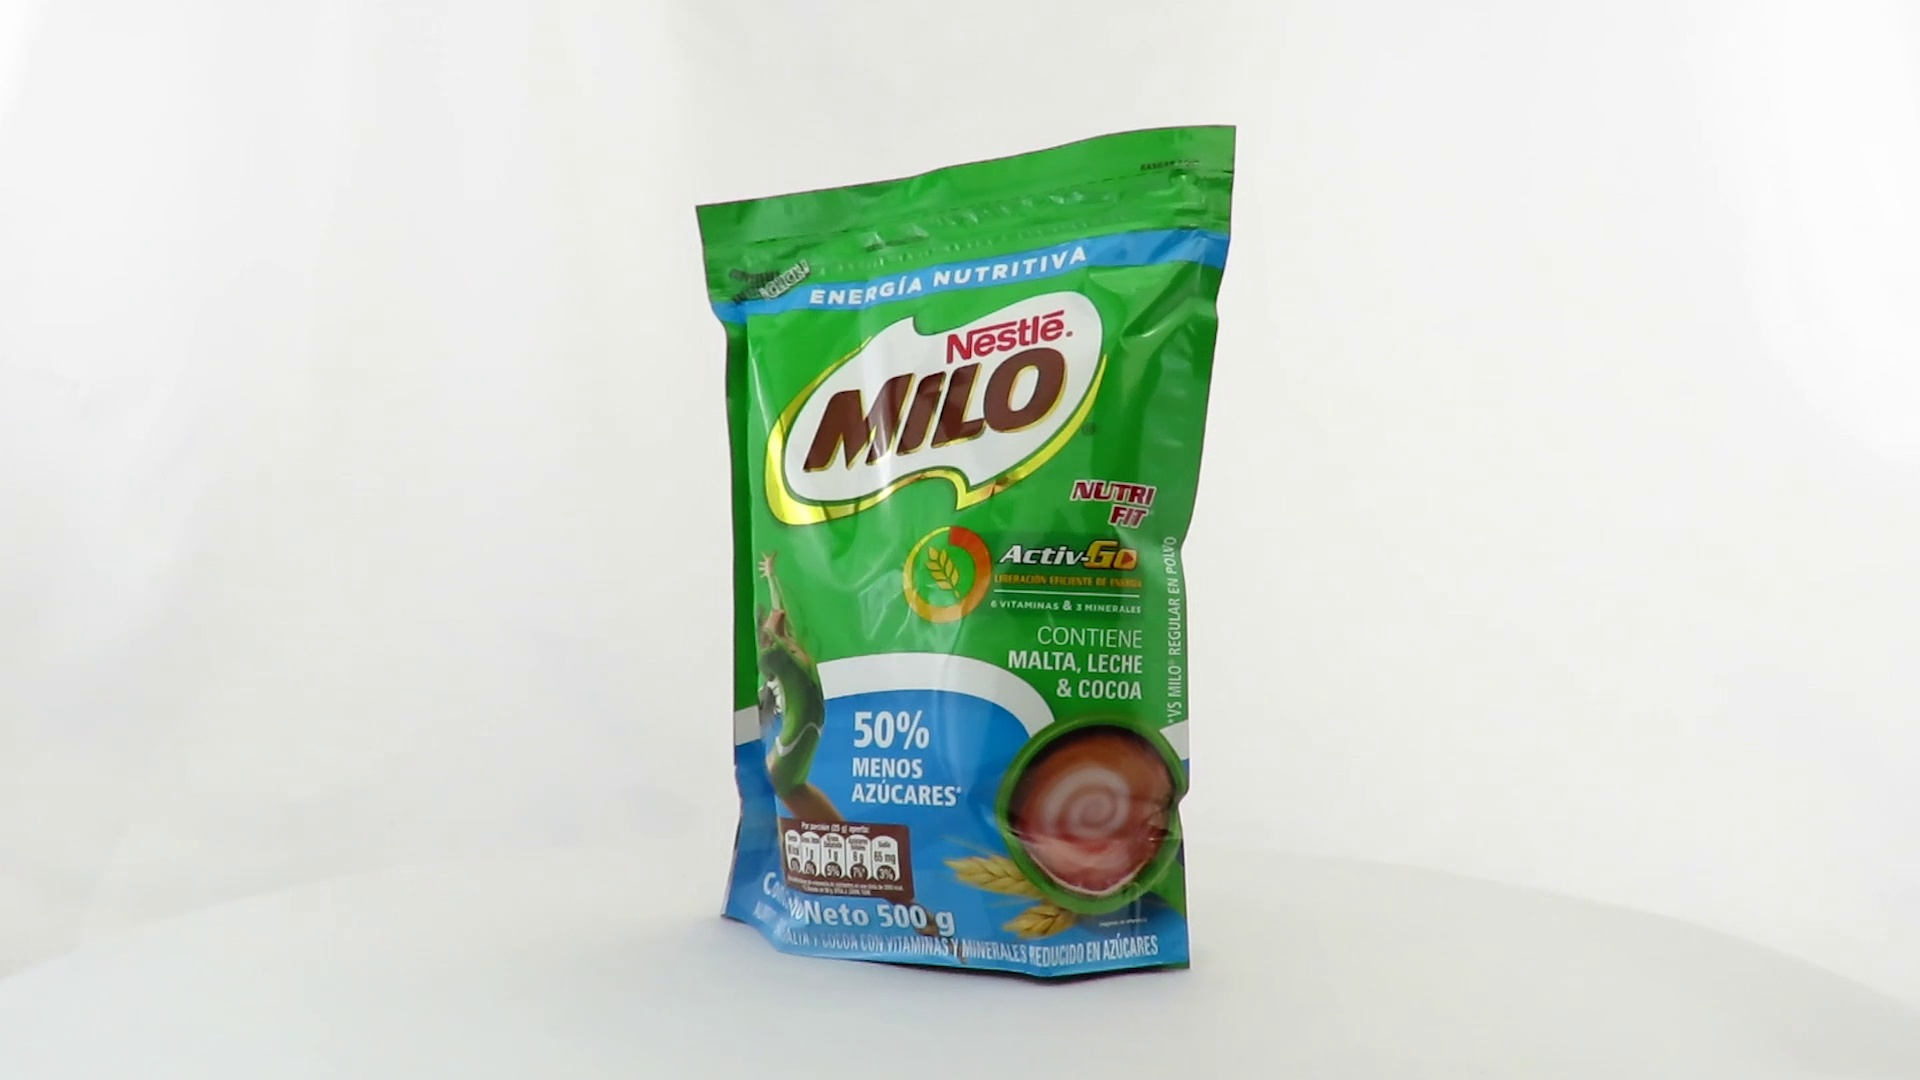COL0170205DYP50000: (690, 119, 1244, 993)
